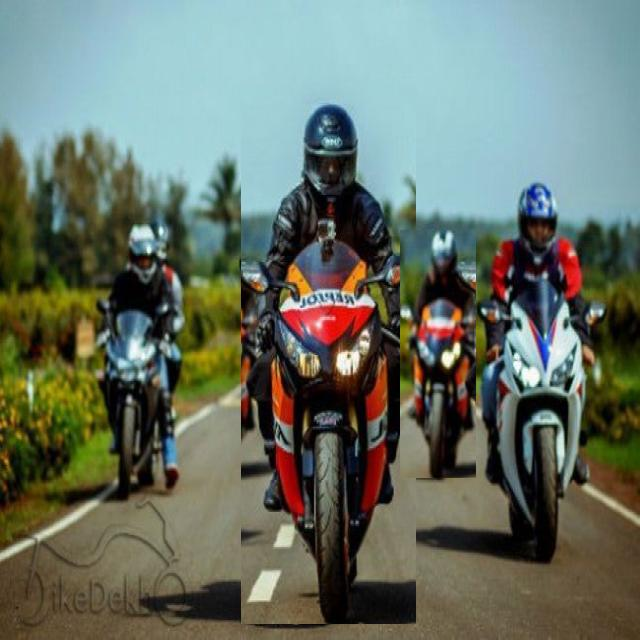motorcycle: (241, 105, 416, 624), (479, 184, 605, 562), (98, 221, 184, 498), (400, 230, 476, 478)
